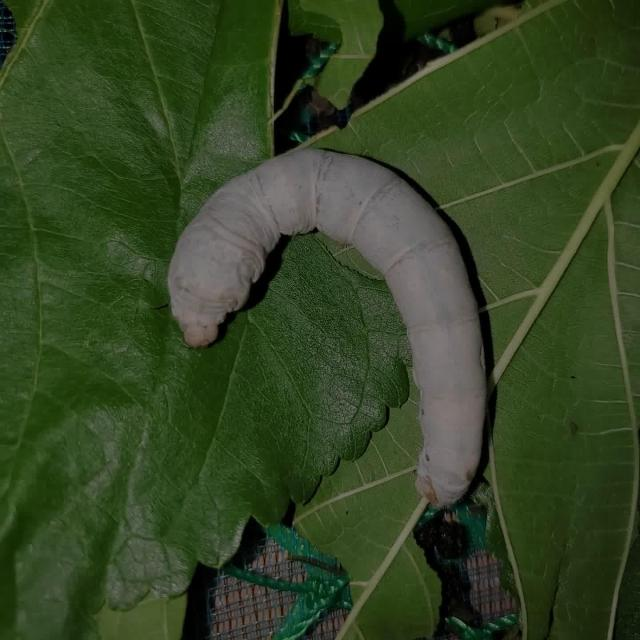Healthy: (142, 133, 524, 518)
